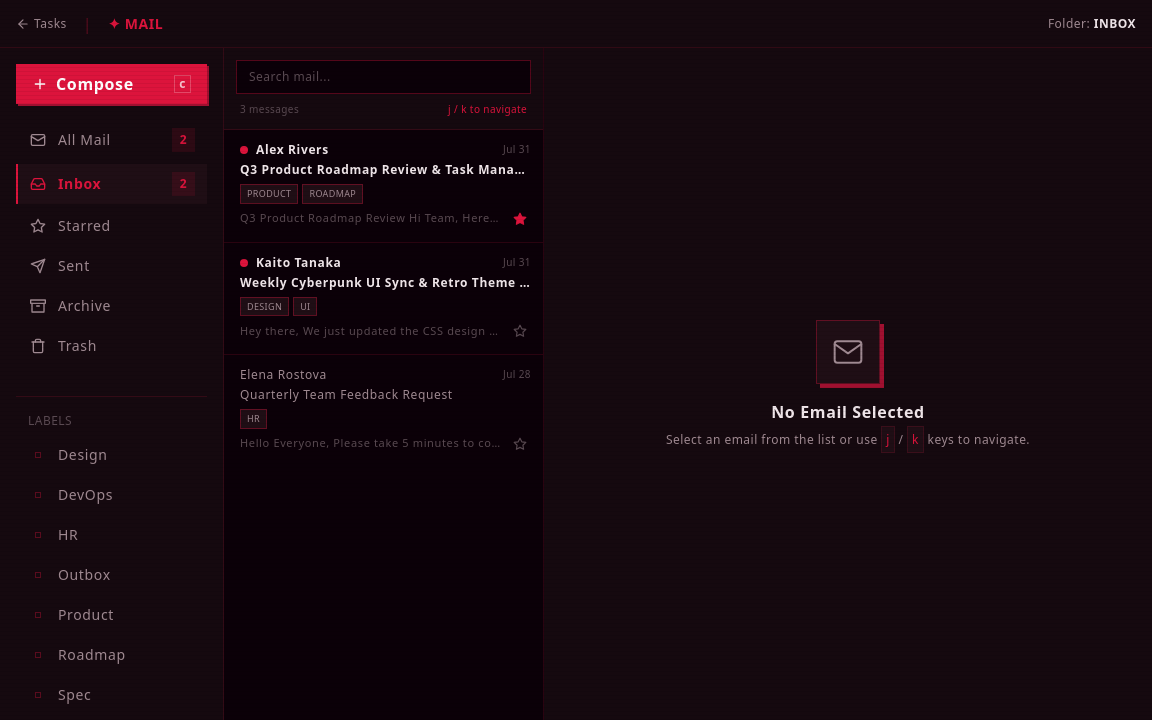
Test: MailPage Orchestrator & Integration Suite › Tier 2: Cross-Feature Interactions & Edge Conditions › executes AI draft flow: open AIDraftModal -> generate draft -> populate ComposeModal
Select the first inbox email (render no longer auto-selects it)
Step 1. Click the text "Q3 Product Roadmap Review & Task Management" → coordinates (386, 170), box [240,162,531,178]
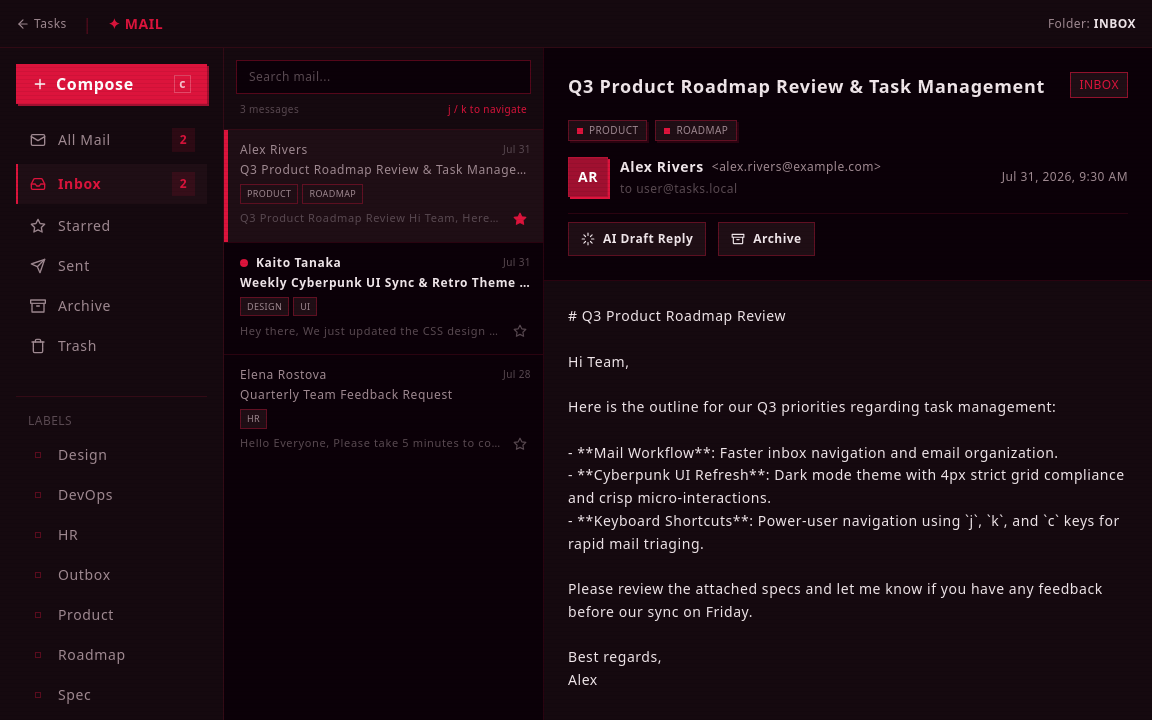
Click AI Draft Reply button
Step 2. Click the button "AI Draft Reply" → coordinates (637, 239), box [568,222,706,256]
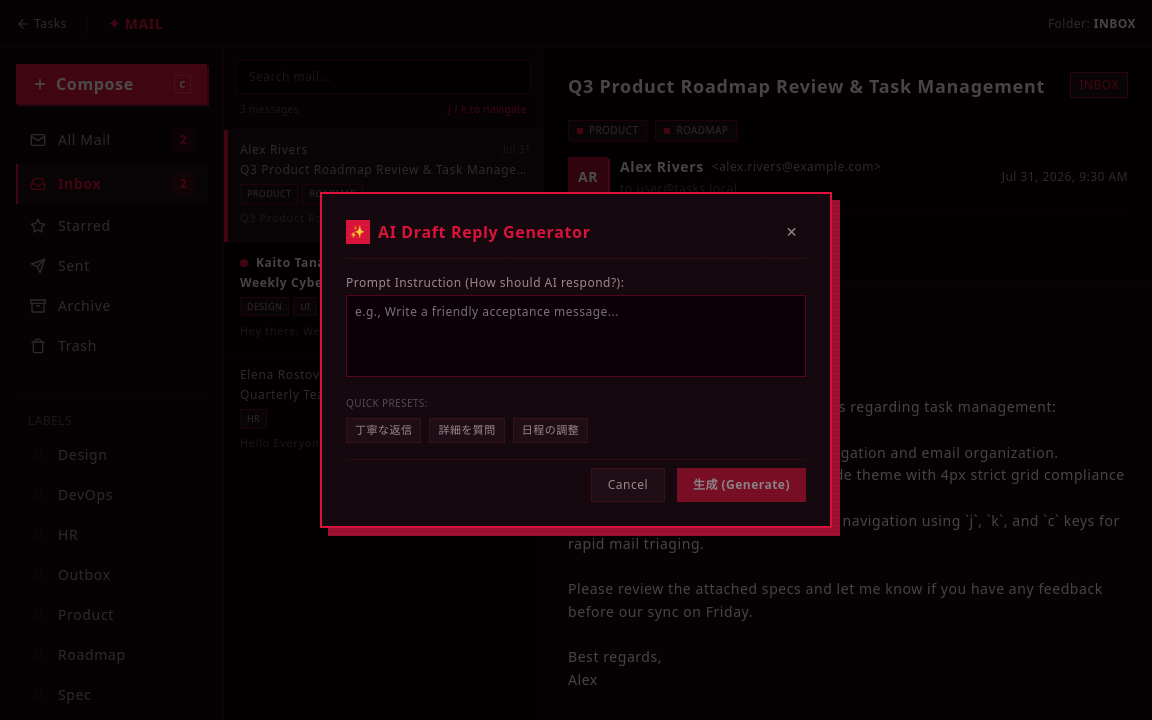
Expected: the dialog with test id "ai-draft-modal" is shown
Select preset prompt
Step 3. Click the button with test id "preset-prompt-0" → coordinates (384, 431), box [346,418,421,443]
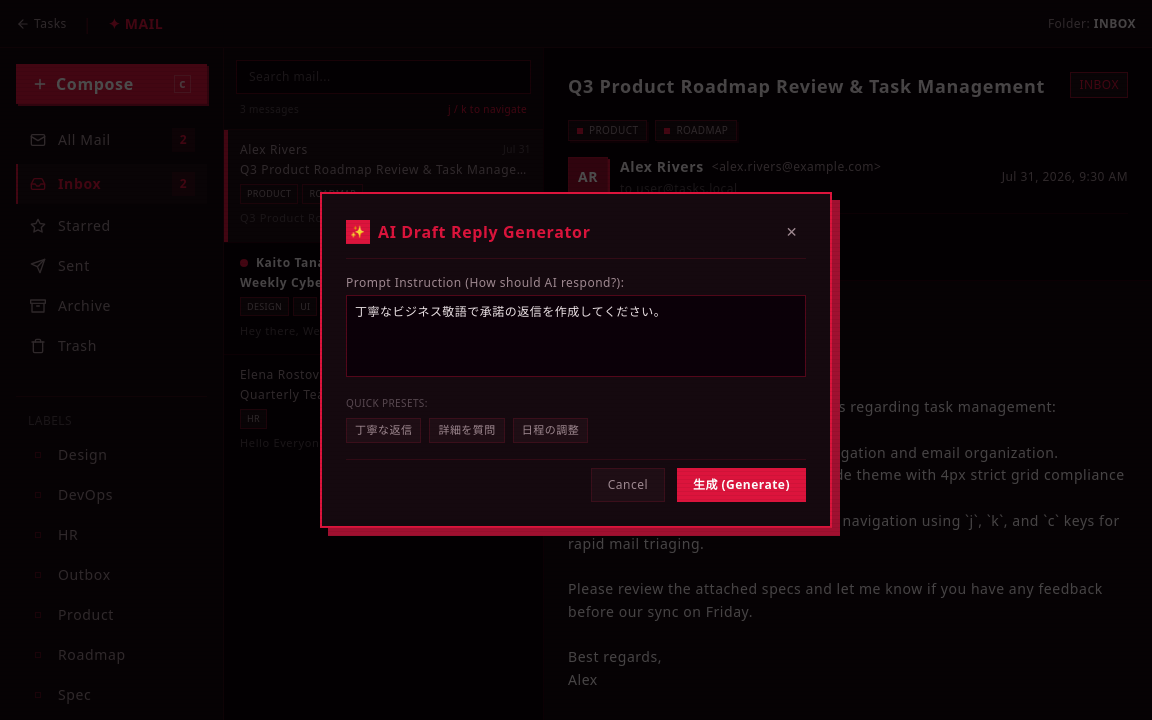
Click Generate button
Step 4. Click the button with test id "ai-draft-generate-button" → coordinates (742, 485), box [677,468,806,502]
Wait 600 ms
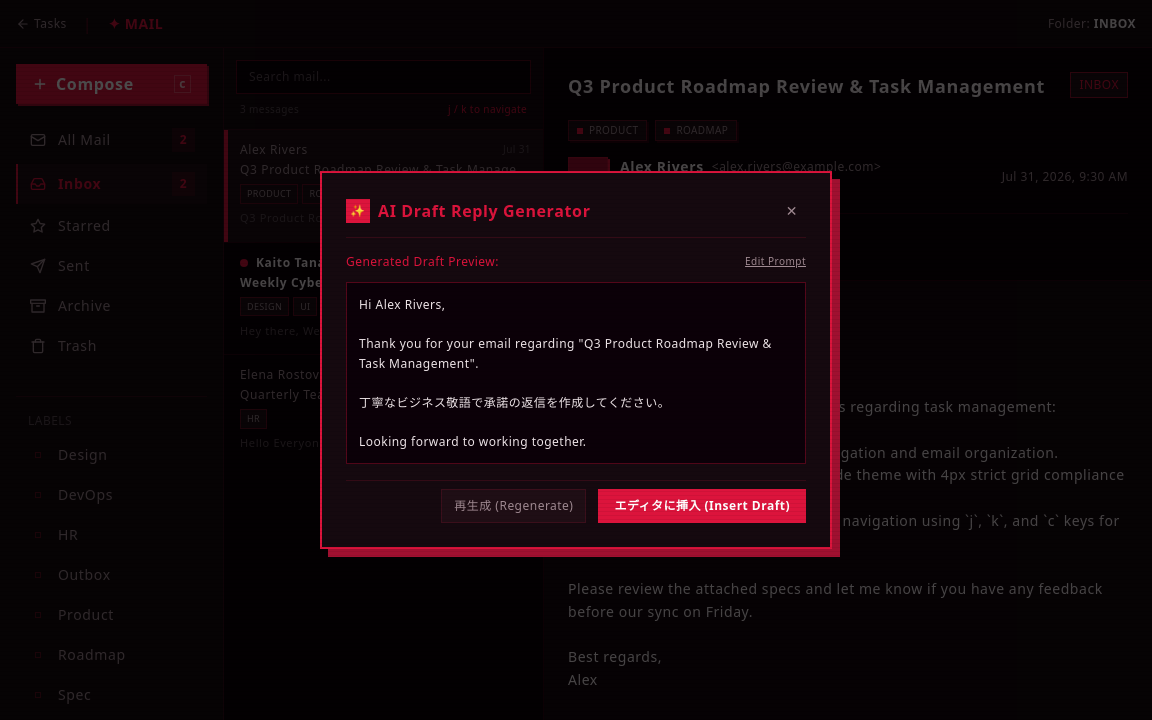
Insert generated draft
Step 5. Click the button with test id "ai-draft-insert-button" → coordinates (702, 506), box [598,489,806,523]
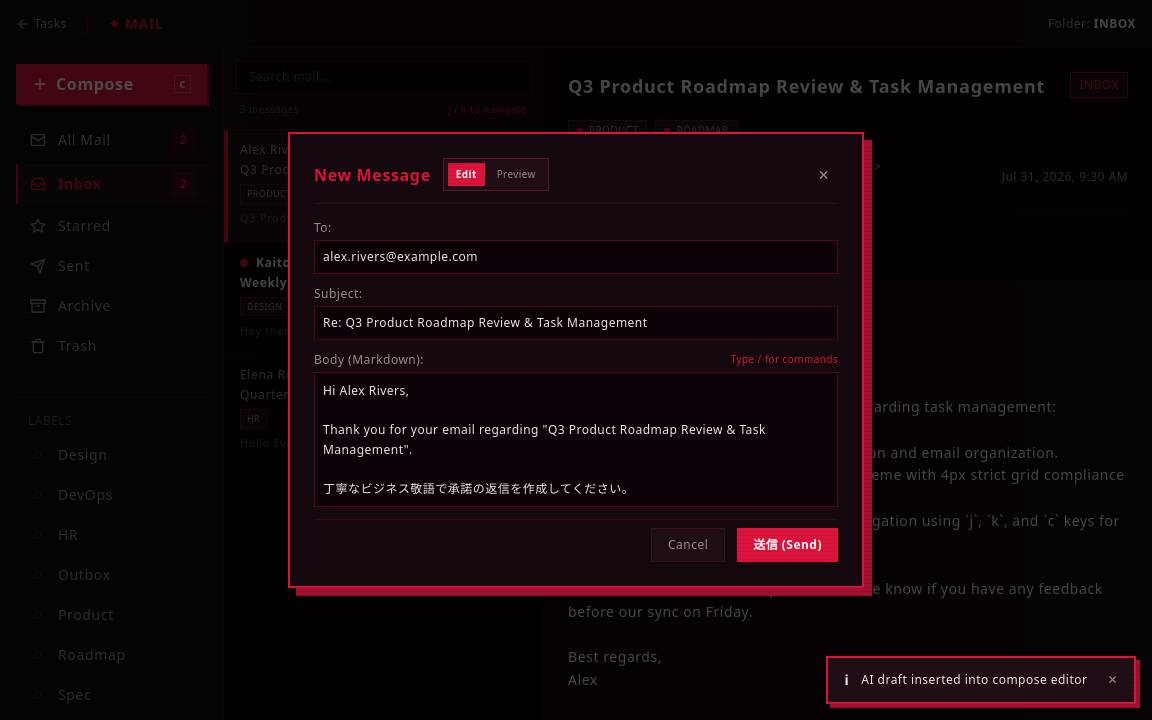
Expected: the dialog with test id "ai-draft-modal" is gone
Expected: the dialog with test id "compose-modal" is shown
